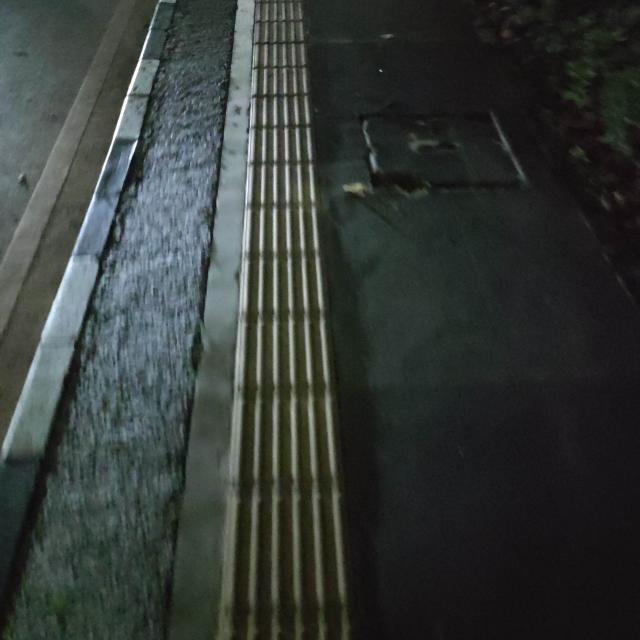lurus: (236, 17, 341, 640)
